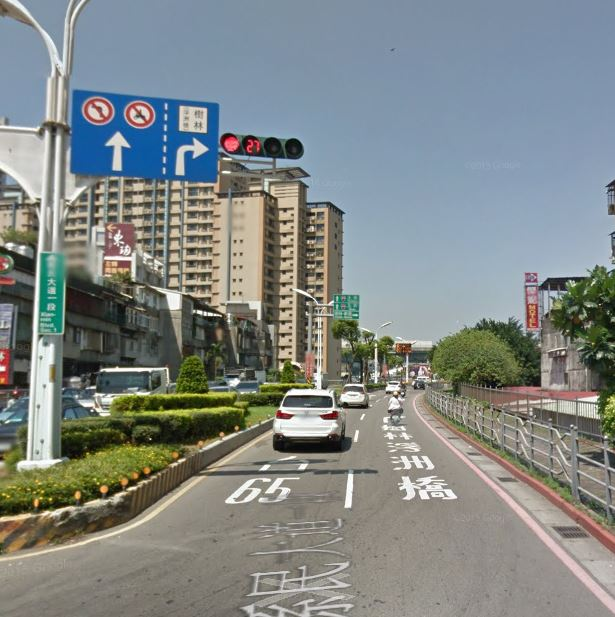Traffic_light_red: (220, 130, 303, 158)
